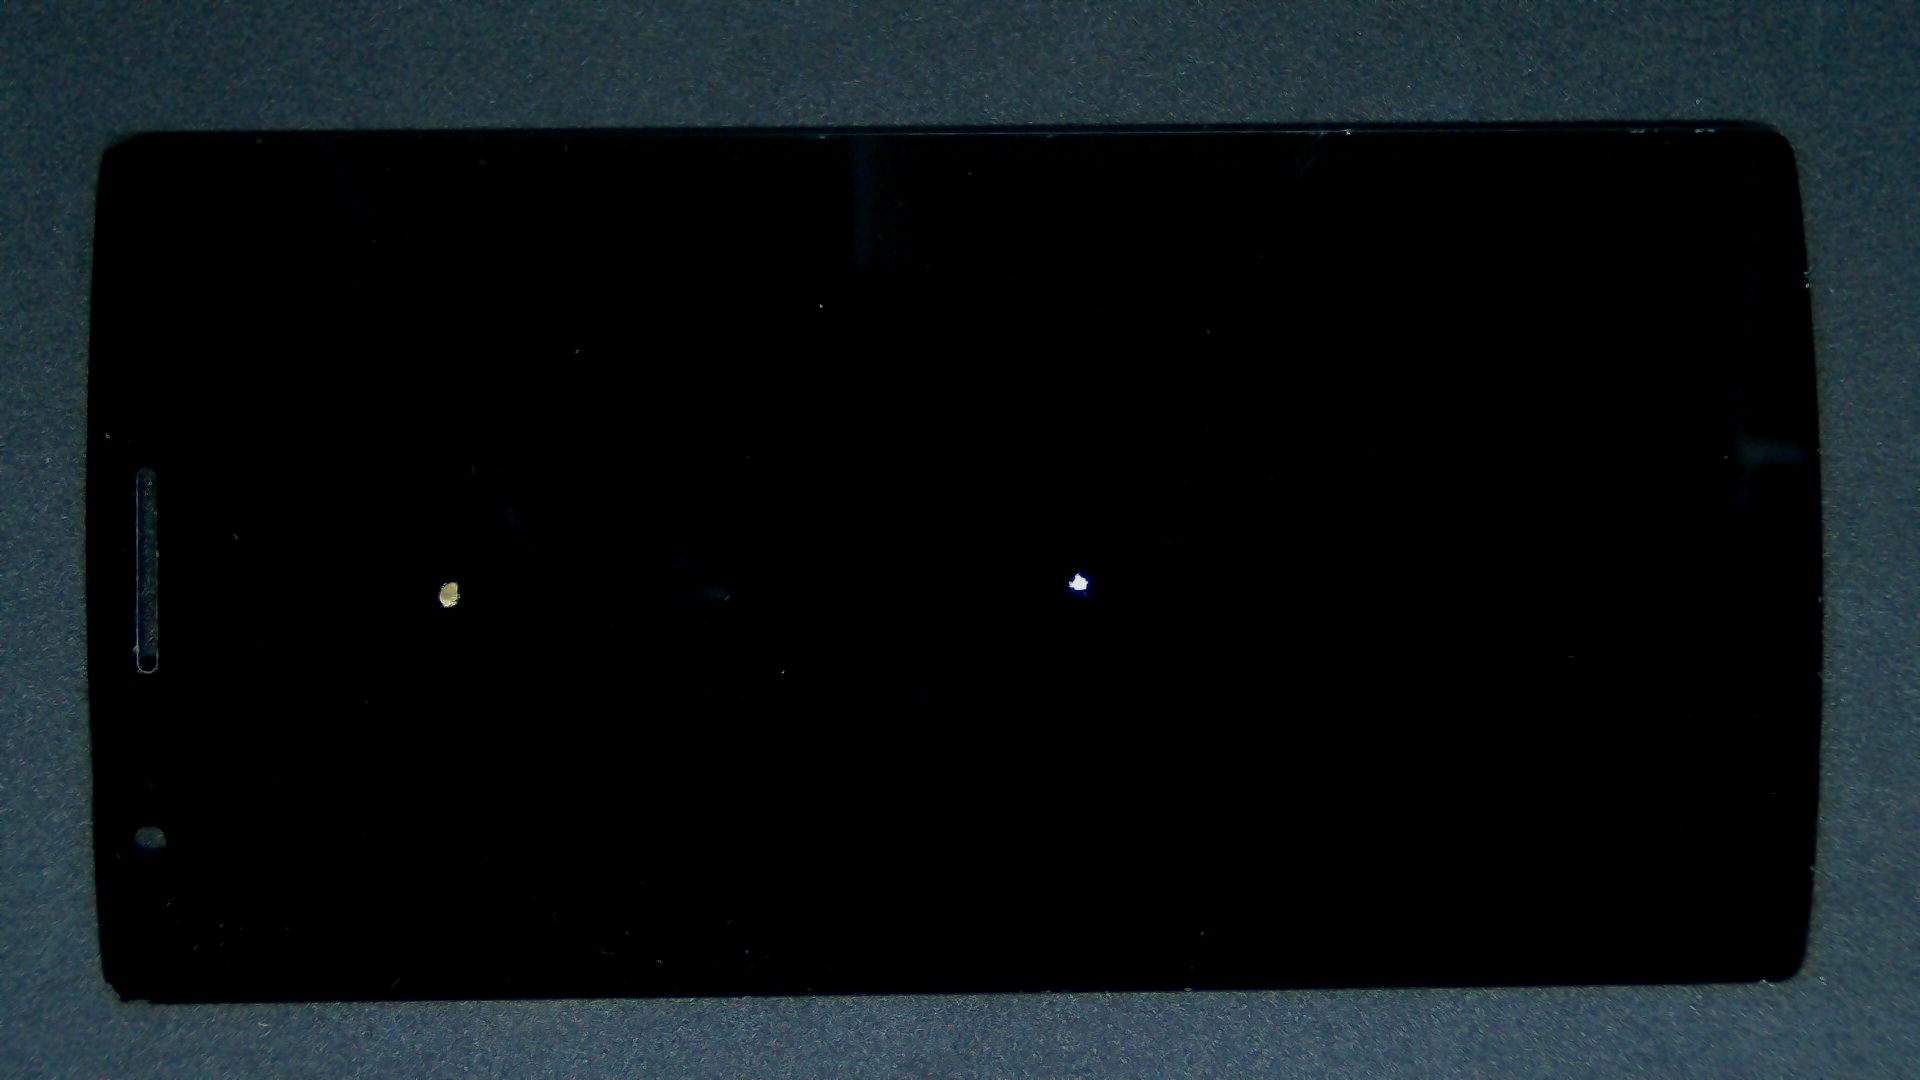oil: (541, 285, 1618, 856), (228, 290, 683, 870)
